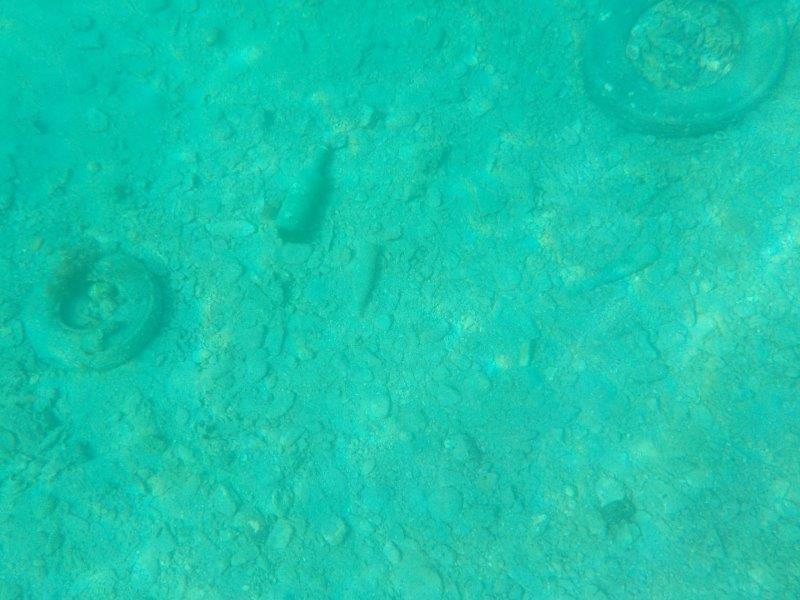bottle: (273, 137, 337, 249), (567, 238, 665, 299), (338, 237, 386, 324)
tire: (576, 1, 799, 141), (22, 233, 170, 371)
